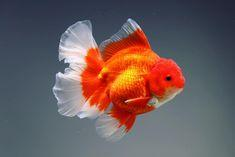goldfish: (53, 20, 191, 132)
